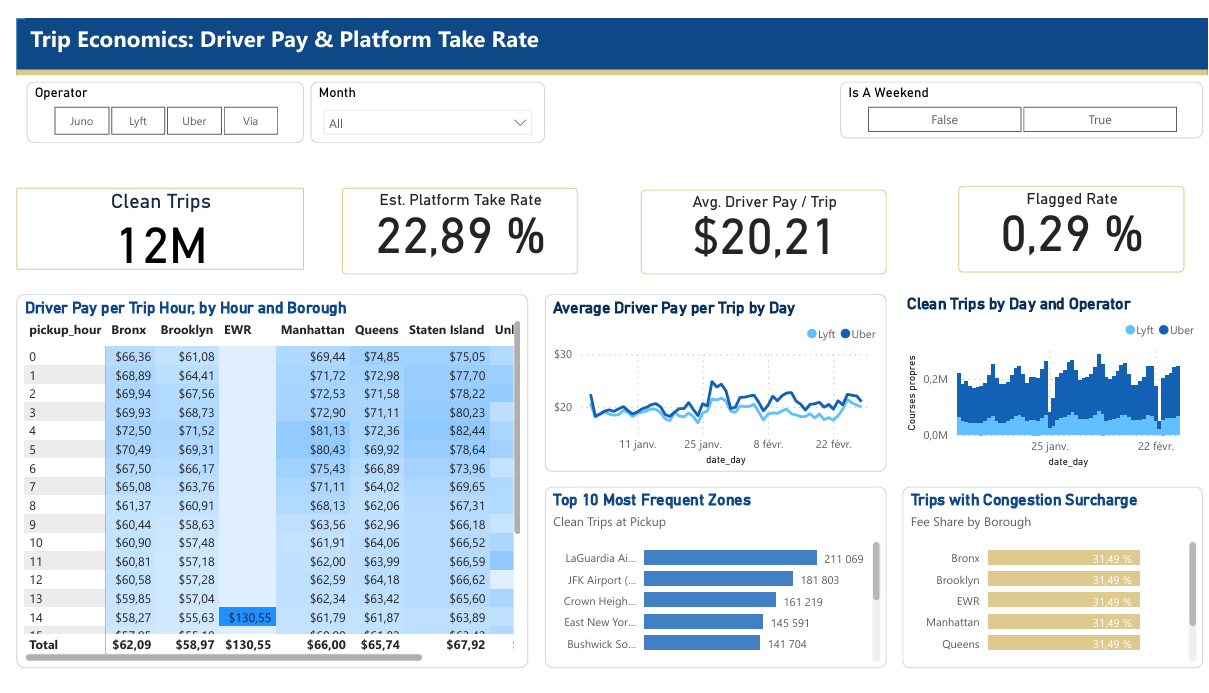

Layout of this report page (visuals, bound fields, positions):
{"tool":"powerbi","page":{"name":"Economie de courses","canvas":[1280,720],"ordinal":0},"visuals":[{"type":"textbox","box":[9,0,941.4,76.8],"z":0},{"type":"slicer","fields":{"Values":["dim_operator.operator_name"]},"box":[9.8,61.5,265.8,150.2],"z":1000},{"type":"slicer","fields":{"Values":["dim_date.month_name"]},"box":[450.5,96,253.5,76.3],"z":2000},{"type":"slicer","fields":{"Values":["agg_zone_hour.is_weekend"]},"box":[910.8,61.5,366.8,152.6],"z":3000},{"type":"card","fields":{"Values":["_Mesures.Courses propres"]},"box":[0,206.8,265.8,152.6],"z":4000},{"type":"card","fields":{"Values":["_Mesures.Rémunération moyenne par course"]},"box":[640,214.2,265.8,152.6],"z":5000},{"type":"card","fields":{"Values":["_Mesures.Part plateforme (approx.)"]},"box":[334.8,206.8,231.4,152.6],"z":6000},{"type":"card","fields":{"Values":["_Mesures.Part signalées"]},"box":[1011.7,211.7,204.3,152.6],"z":7000},{"type":"lineChart","title":"Rémunération moyenne par course et par jour","fields":{"Category":["dim_date.date_day"],"Y":["_Mesures.Rémunération moyenne par course"],"Series":["dim_operator.operator_name"]},"box":[51.7,364.3,268.3,150.2],"z":8000},{"type":"columnChart","fields":{"Category":["dim_date.date_day"],"Y":["_Mesures.Courses propres"],"Series":["dim_operator.operator_name"]},"box":[472.6,366.8,231.4,150.2],"z":9000},{"type":"pivotTable","title":"Rémunération par heure de course, par heure et par quartier","fields":{"Rows":["agg_zone_hour.pickup_hour"],"Columns":["dim_zone.borough"],"Values":["_Mesures.Rémunération par heure de course (zones)"]},"box":[0,539.1,374.2,182.2],"z":10000},{"type":"clusteredBarChart","fields":{"Category":["dim_zone.zone_label"],"Y":["_Mesures.Courses propres (zones)"]},"box":[396.3,556.3,268.3,150.2],"z":10001},{"type":"clusteredBarChart","fields":{"Category":["dim_zone.borough"],"Y":["_Mesures.Part avec frais (zones)"]},"box":[664.6,487.4,155.1,155.1],"z":10002},{"type":"textbox","box":[603.1,632.6,612.9,61.5],"z":10003}]}

Visuals, with their boxes in screenshot pixels (x1, y1, x2, y2), scaled from the page's 1280x720 canvas onto the 1209x693 screenshot:
textbox: 9/0/898/74
slicer - dim_operator.operator_name: 9/59/260/204
slicer - dim_date.month_name: 426/92/665/166
slicer - agg_zone_hour.is_weekend: 860/59/1207/206
card - _Mesures.Courses propres: 0/199/251/346
card - _Mesures.Rémunération moyenne par course: 604/206/856/353
card - _Mesures.Part plateforme (approx.): 316/199/535/346
card - _Mesures.Part signalées: 956/204/1149/351
"Rémunération moyenne par course et par jour" lineChart: 49/351/302/495
columnChart - dim_date.date_day x _Mesures.Courses propres: 446/353/665/498
"Rémunération par heure de course, par heure et par quartier" pivotTable: 0/519/353/692
clusteredBarChart - dim_zone.zone_label x _Mesures.Courses propres (zones): 374/535/628/680
clusteredBarChart - dim_zone.borough x _Mesures.Part avec frais (zones): 628/469/774/618
textbox: 570/609/1149/668
